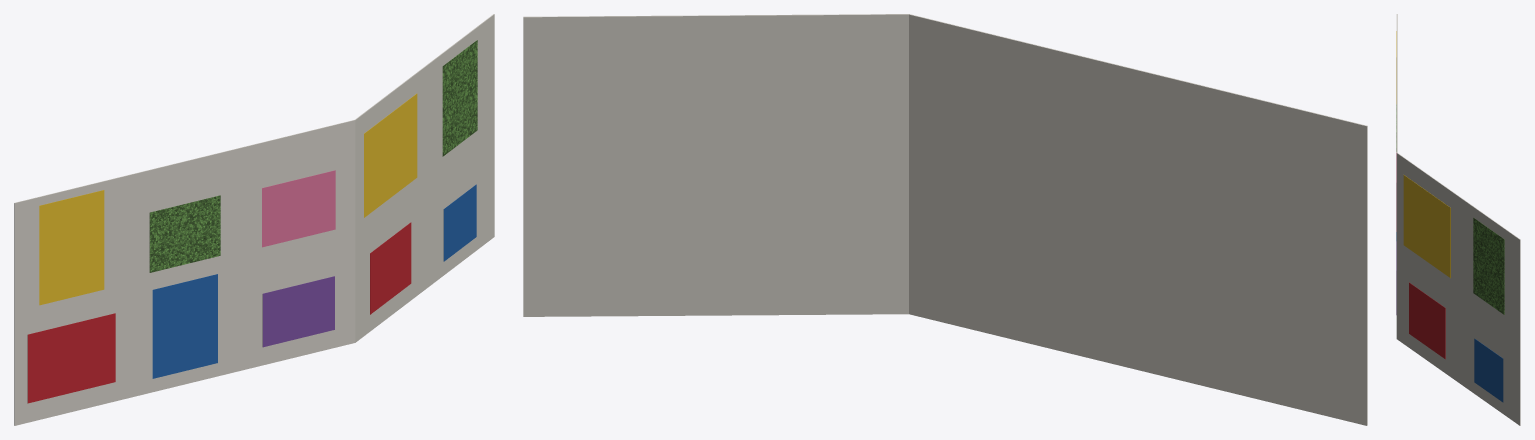
The picture shows the model from 3 angles, left to right: view 1: azimuth 30°, elevation 25°; view 2: azimuth 150°, elevation 25°; view 3: azimuth 270°, elevation 25°; orthographic projection. The views are drawn at different scales.
Visible parts, largest first — view 1: decorative.mural (×7); view 2: decorative.mural; view 3: decorative.mural (×5).
Boxes of the visible parts, <box> form: decorative.mural (×7): <box>14,14,494,425</box>; decorative.mural: <box>523,14,1367,425</box>; decorative.mural (×5): <box>1396,14,1520,425</box>.
Bounding box in the file's own units: 6.5 × 1.51 × 2.5.
Materials: 7 (1 with a texture image).
